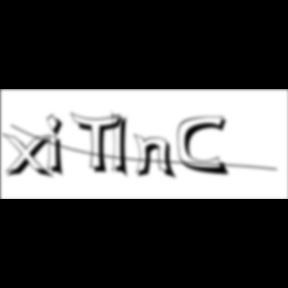C: (178, 115, 233, 178)
I: (112, 110, 136, 182)
T: (71, 112, 129, 176)
i: (47, 112, 71, 180)
n: (134, 132, 180, 181)
x: (3, 132, 58, 181)
